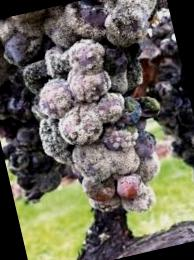Grape Rotten: (0, 0, 194, 239)
